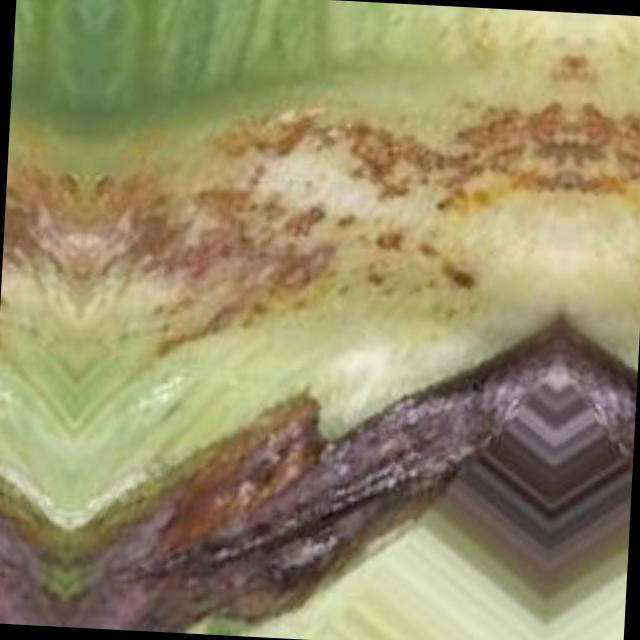Septoria_Blight: (78, 70, 568, 348), (0, 65, 91, 322), (564, 95, 640, 352)
